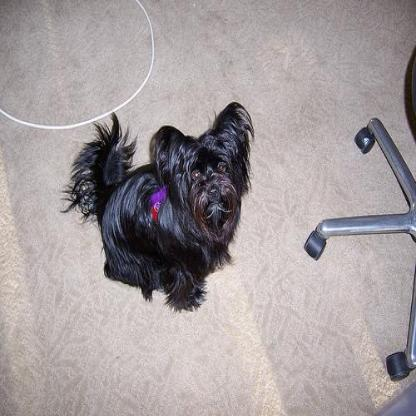affenpinscher: (59, 98, 255, 310)
